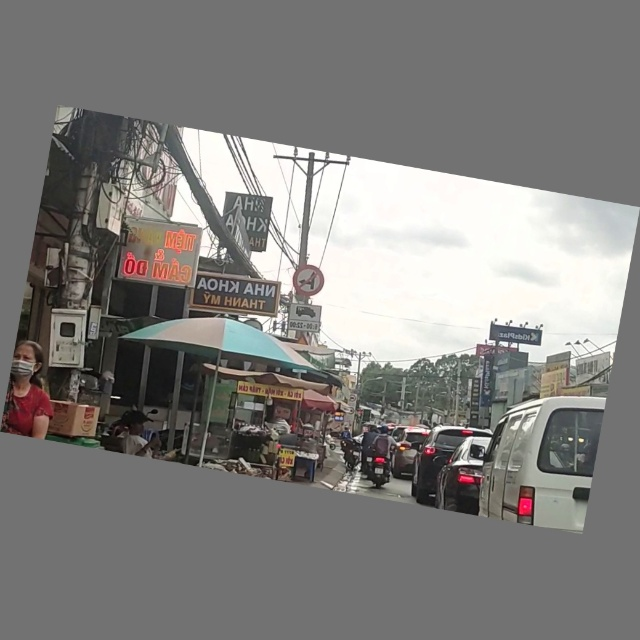P.139: (291, 264, 325, 299)
S.505a*Xe tai: (287, 302, 323, 336)
